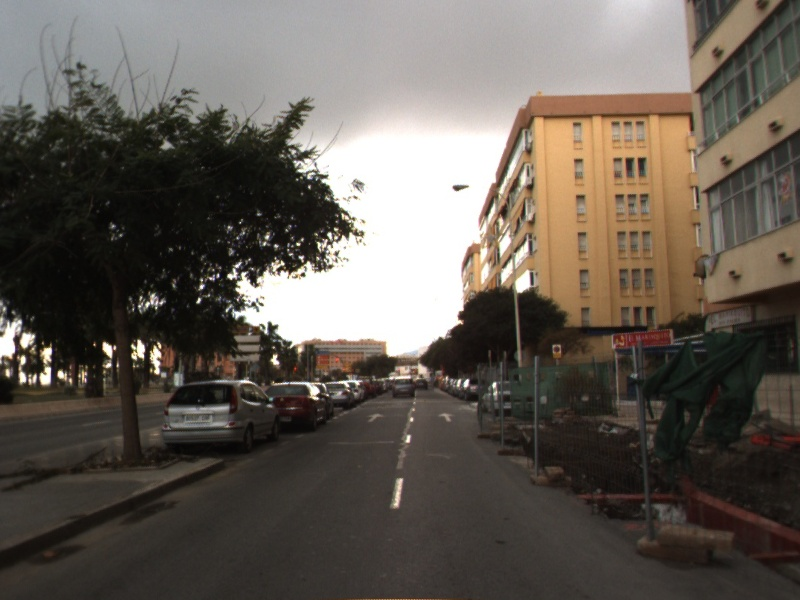STRAIGHT: (436, 411, 456, 423), (365, 412, 386, 423)
